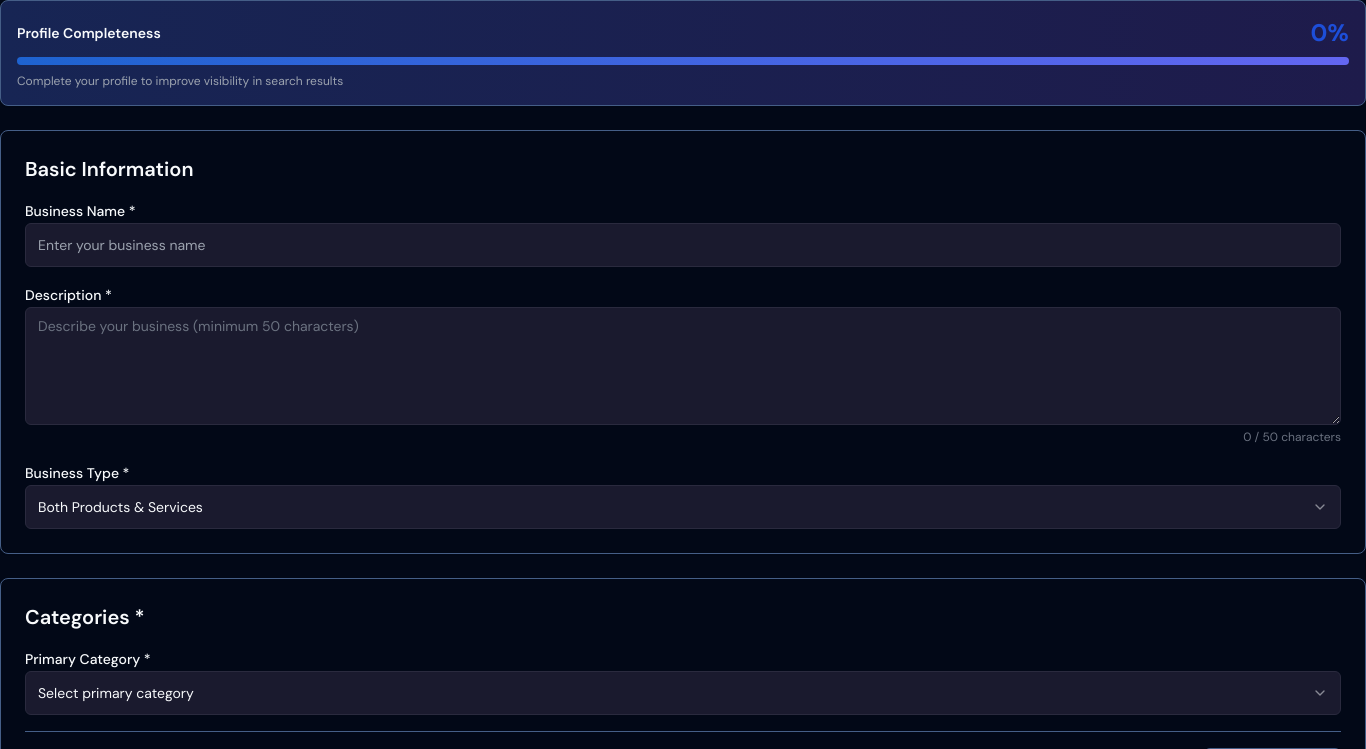
BusinessProfileForm › shows character count for description
Type "Test description" into the text box labelled "Description *". click: (683, 366)
box: [25,307,1341,425]
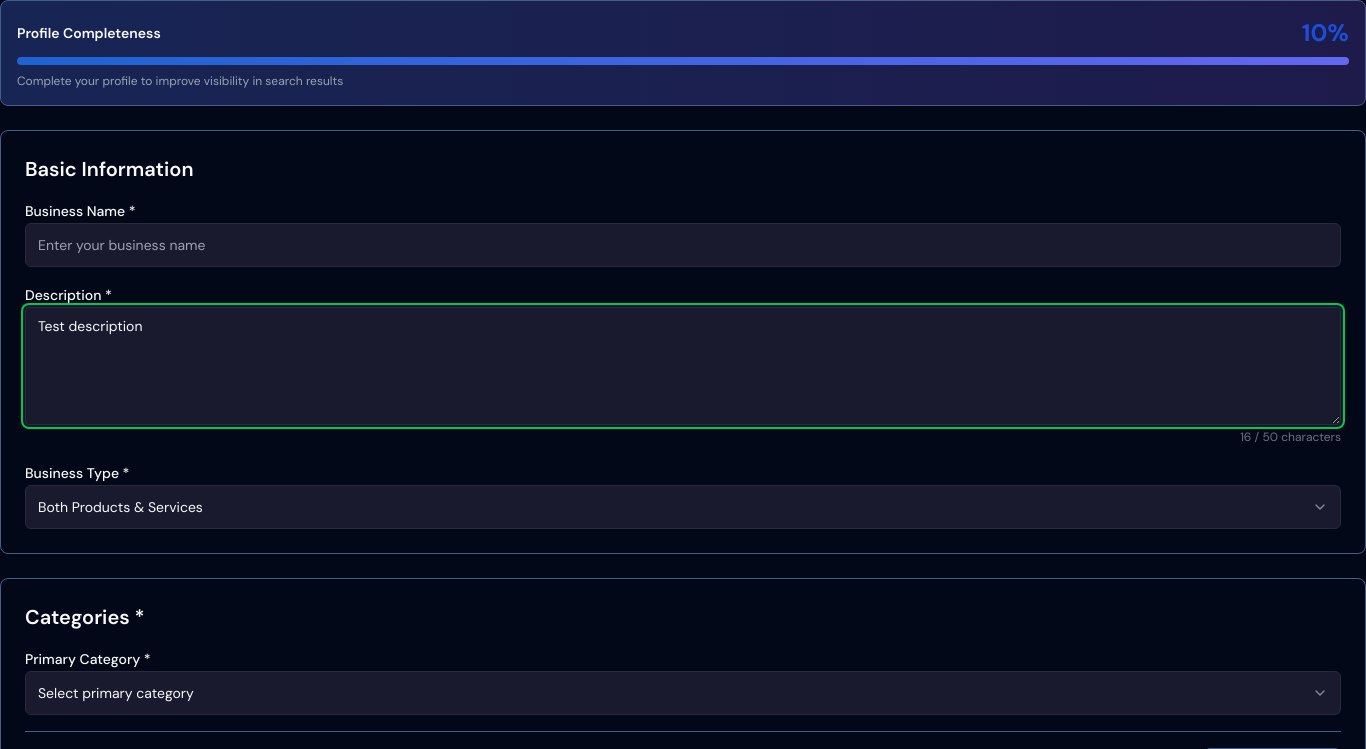
Result: the text "16 / 50 characters" is shown at [1240,429,1341,445]
